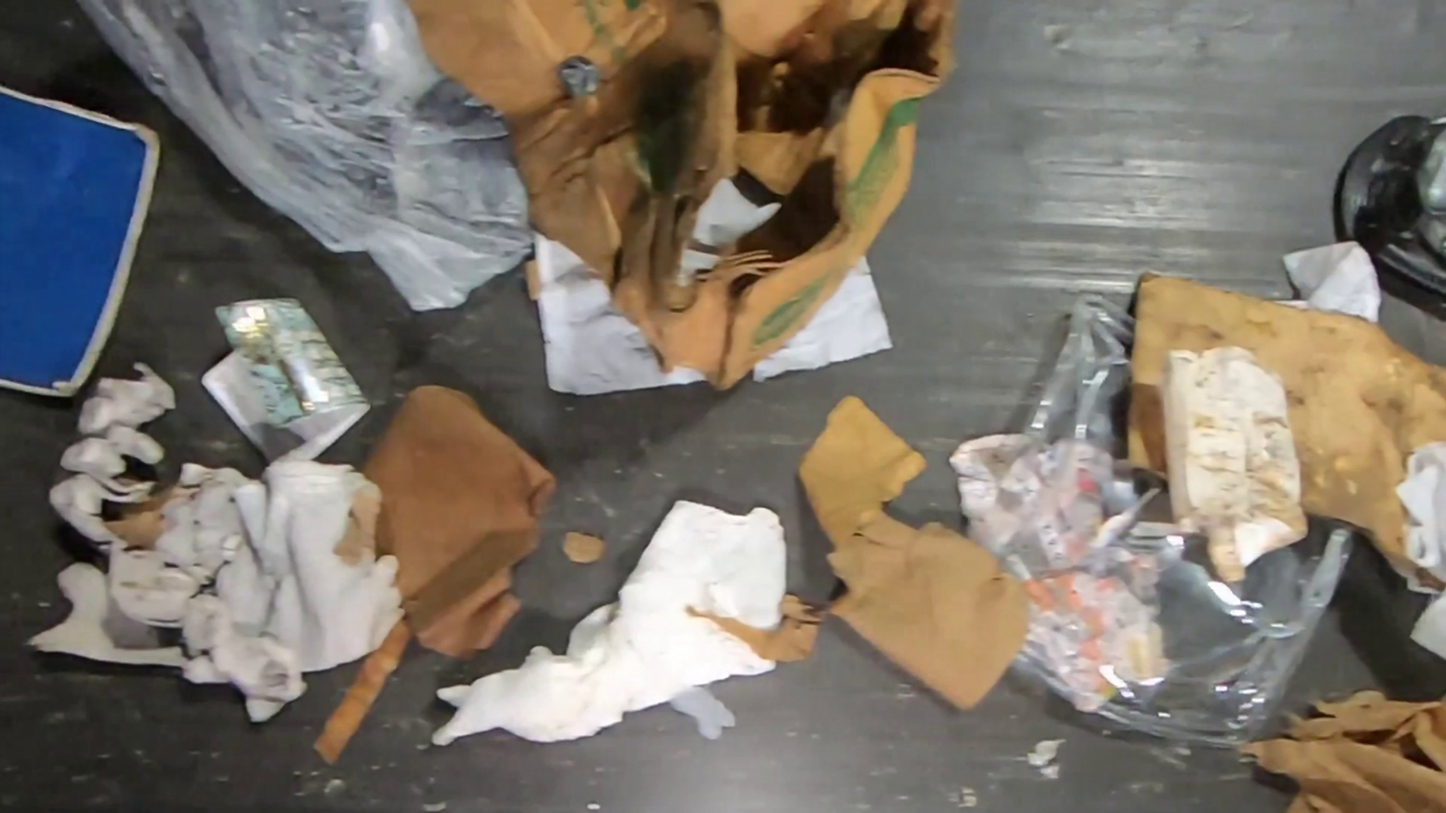cardboard: (403, 0, 957, 396), (102, 383, 558, 768), (682, 394, 1028, 714), (1125, 273, 1446, 559), (0, 80, 165, 407), (557, 529, 610, 565)
plastic: (964, 290, 1357, 757), (68, 0, 536, 314), (1335, 113, 1446, 323)
